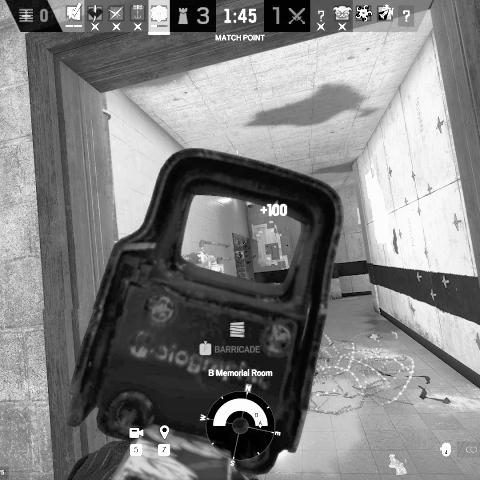Character: (236, 250, 243, 260)
